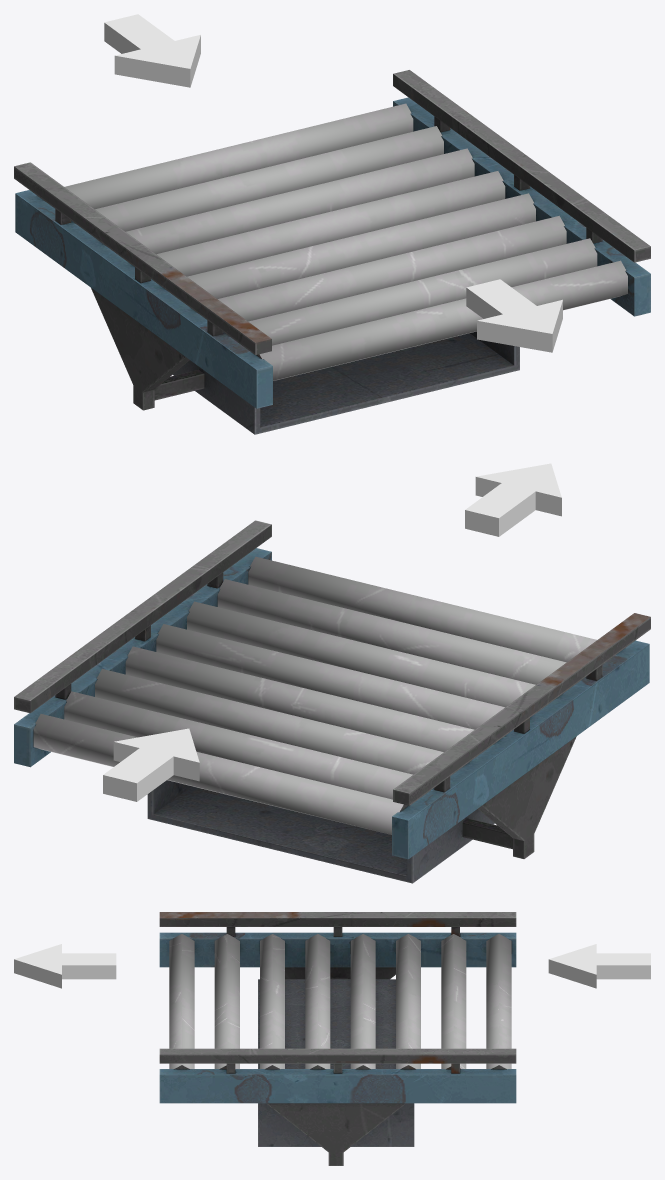
Rendered from rollerstraight.glb.
3 renders of one model, top to bottom at view 1: azimuth 30°, elevation 25°; view 2: azimuth 150°, elevation 25°; view 3: azimuth 270°, elevation 25°, orthographic. The views are drawn at different scales.
Parts seen in each view (by area): view 1: rollerstraight, ghostarrow (1), ghostarrow; view 2: rollerstraight, ghostarrow, ghostarrow (1); view 3: rollerstraight, ghostarrow, ghostarrow (1).
Part boxes in pixels (x1,y1,x2,y2): rollerstraight: (14, 70, 650, 434); ghostarrow (1): (104, 14, 200, 87); ghostarrow: (466, 279, 562, 352); rollerstraight: (14, 520, 650, 883); ghostarrow: (465, 463, 561, 536); ghostarrow (1): (103, 728, 199, 801); rollerstraight: (159, 912, 516, 1165); ghostarrow: (14, 944, 116, 988); ghostarrow (1): (548, 944, 650, 988).
Bounding box in the file's own units: 0.9463 × 0.4329 × 1.79.
Materials: 3 (2 with a texture image).
